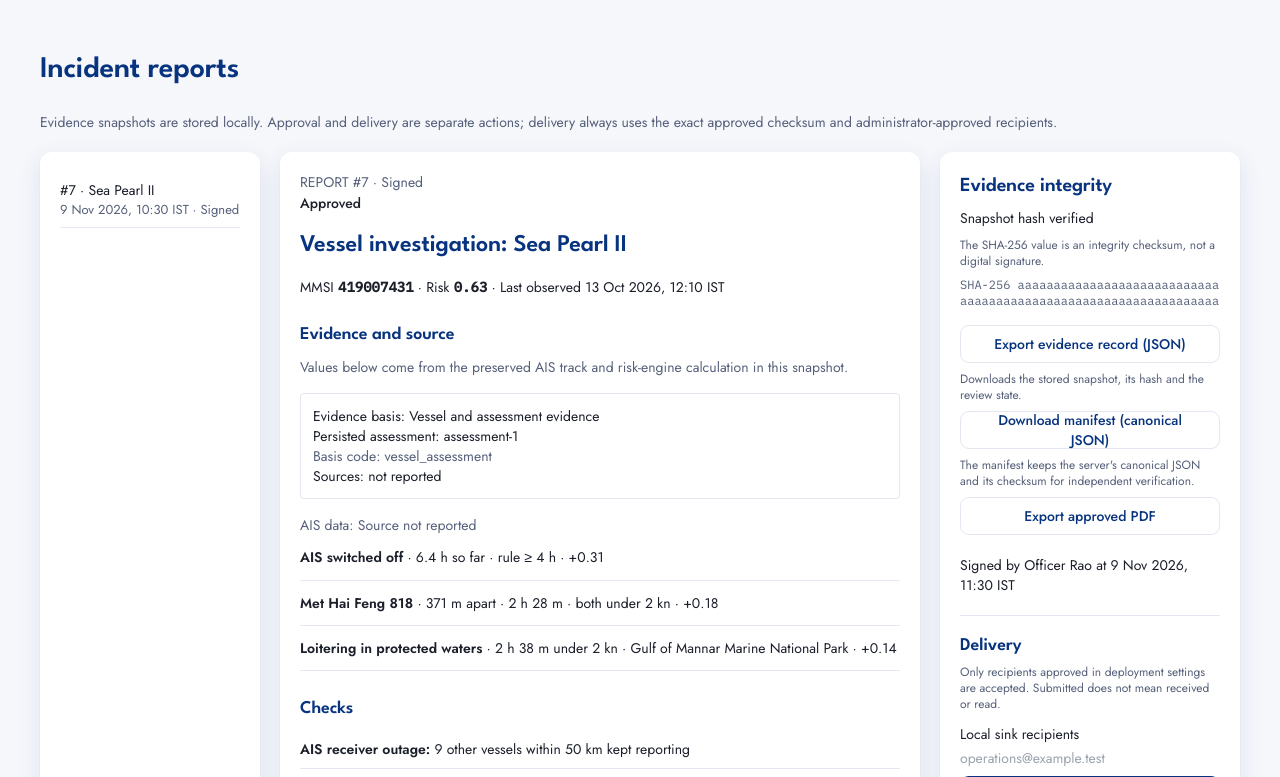
Test case: Reports review and export › queues the exact approved hash and explicitly submits it to the local sink
The width and height of the screenshot is (1280, 777).
Step 1. Type "watch@example.test" into the field labelled "Local sink recipients" → (1090,758), box [960, 748, 1220, 768]
(page scrolled)
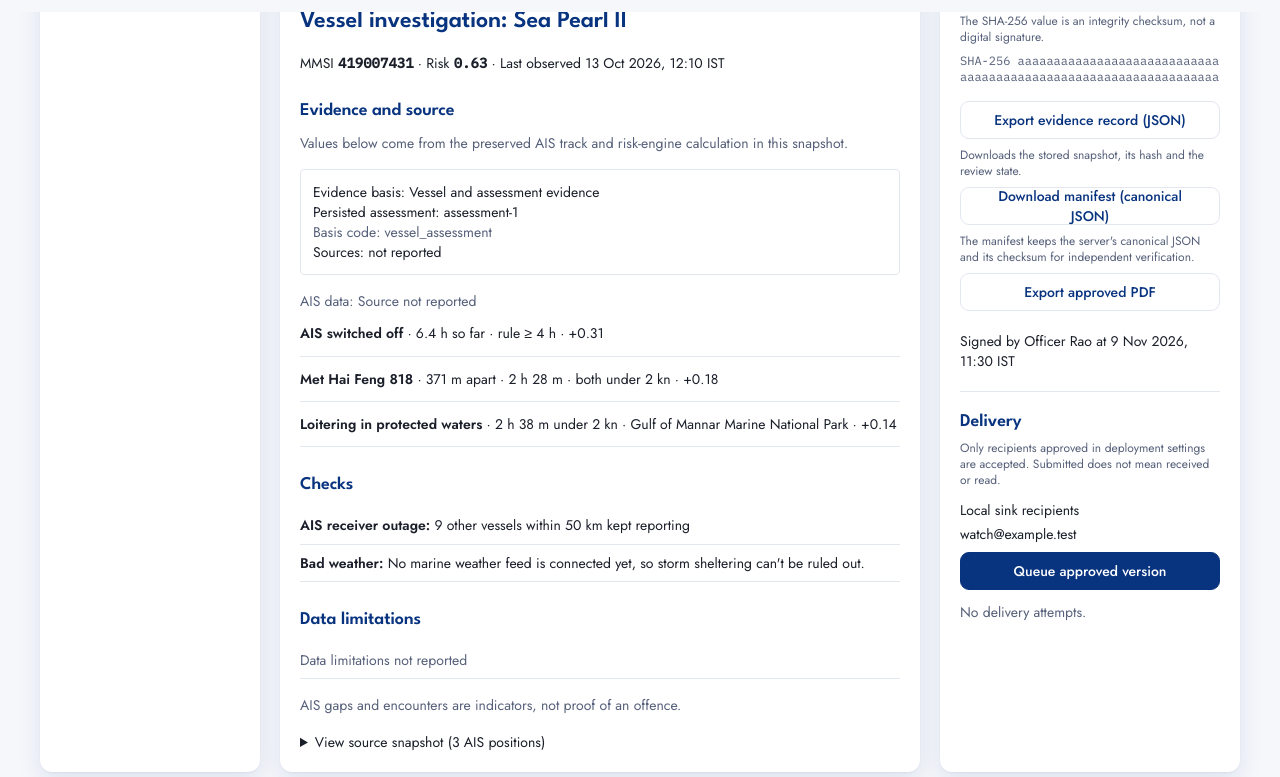
Step 2. Click the button "Queue approved version" → (1090,571), box [960, 552, 1220, 590]
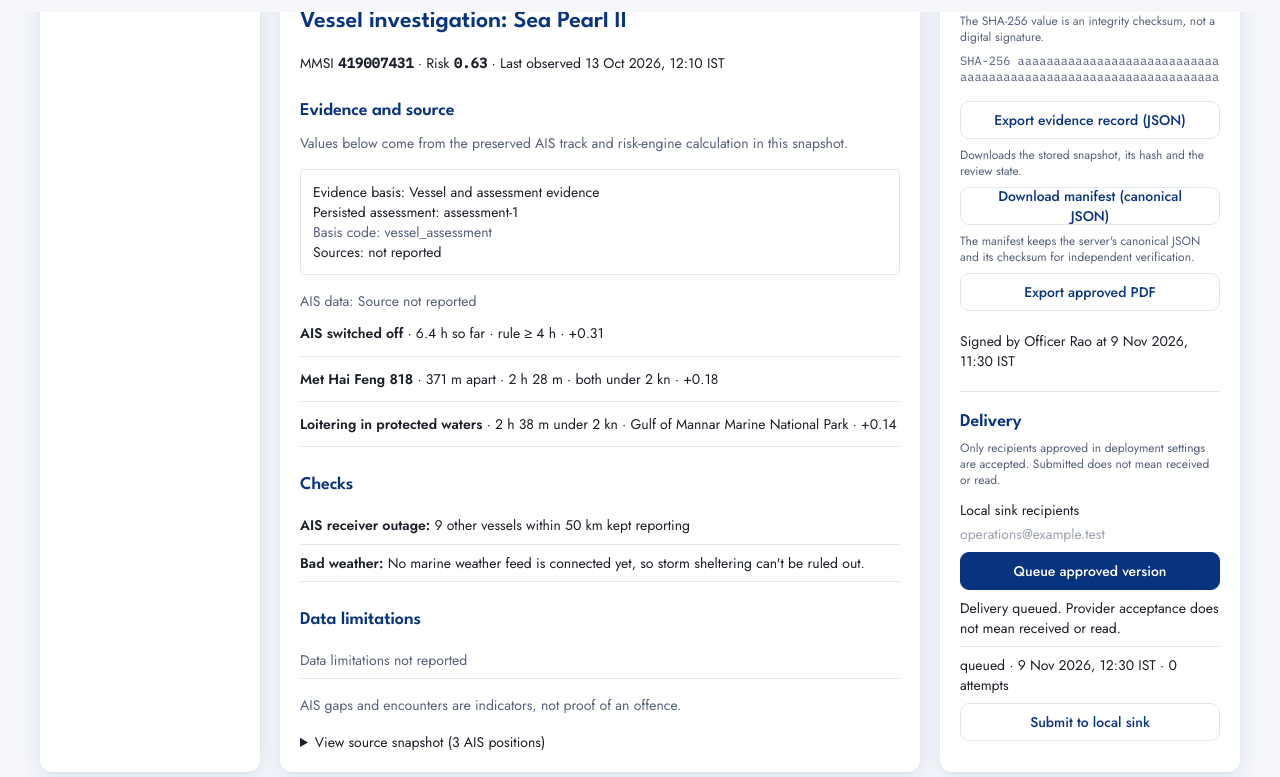
Step 3. Click the button "Submit to local sink" → (1090,722), box [960, 703, 1220, 741]
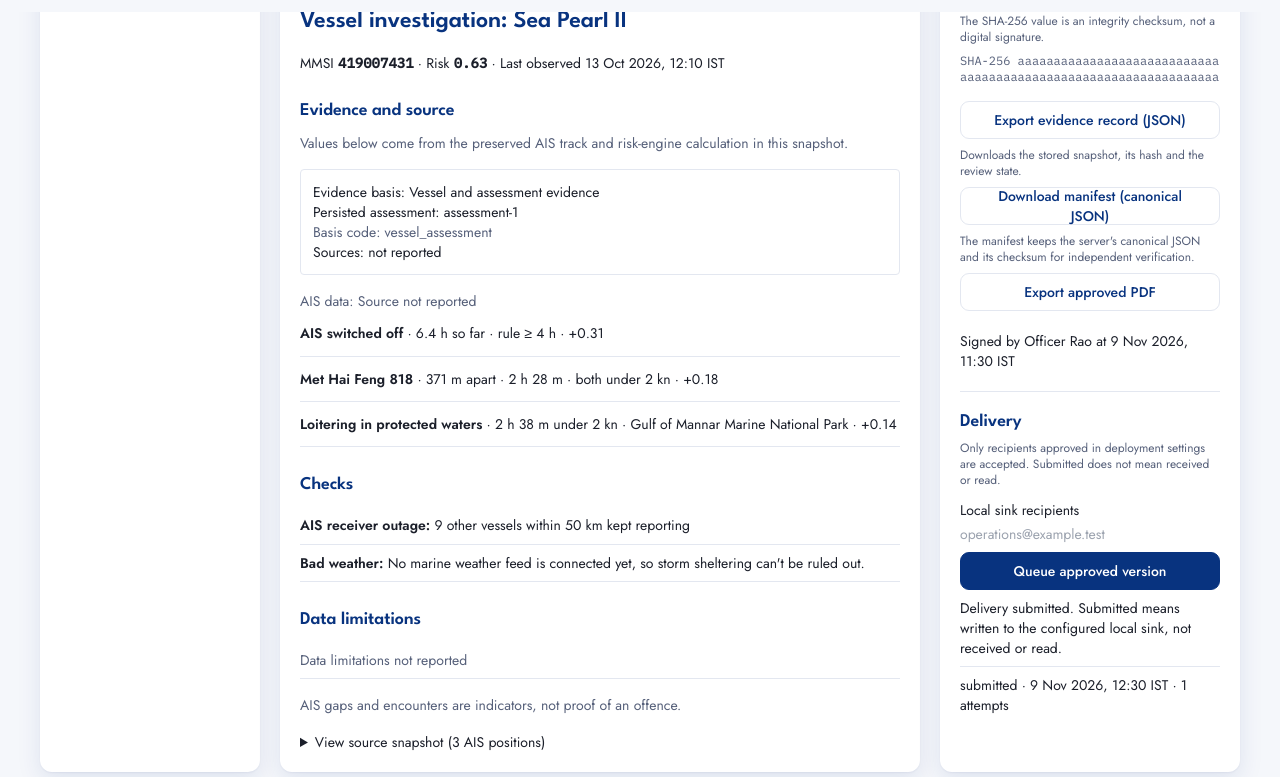
Now the message shows "not received or read", box [960, 598, 1191, 658]
